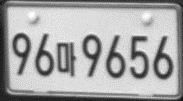5: (129, 35, 150, 78)
6: (104, 33, 126, 78), (152, 35, 173, 80), (34, 32, 54, 76)
9: (11, 32, 32, 75), (81, 34, 102, 77)
마: (56, 41, 76, 76)
